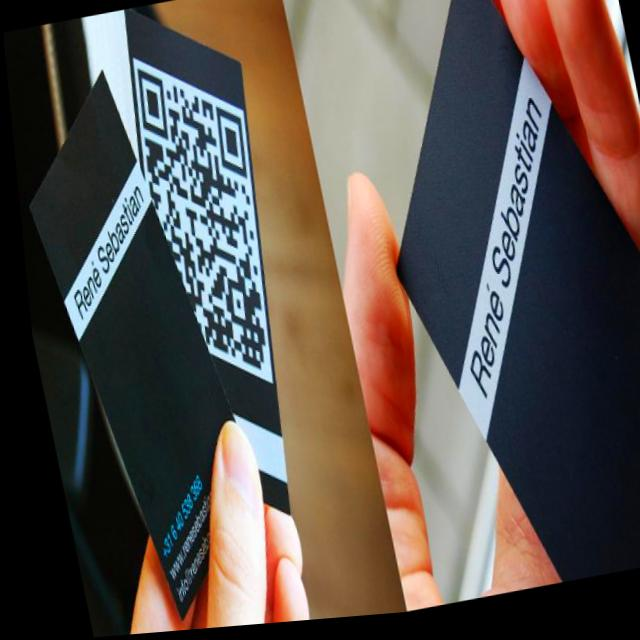qrcode: (122, 52, 285, 394)
